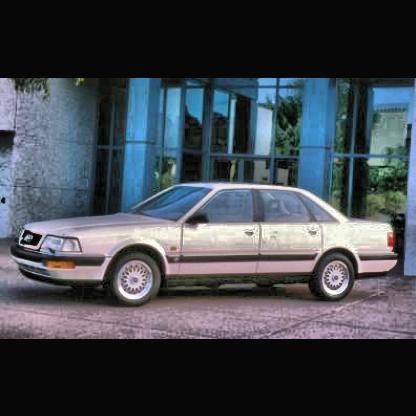Audi V8 Sedan 1994: (13, 182, 399, 304)
